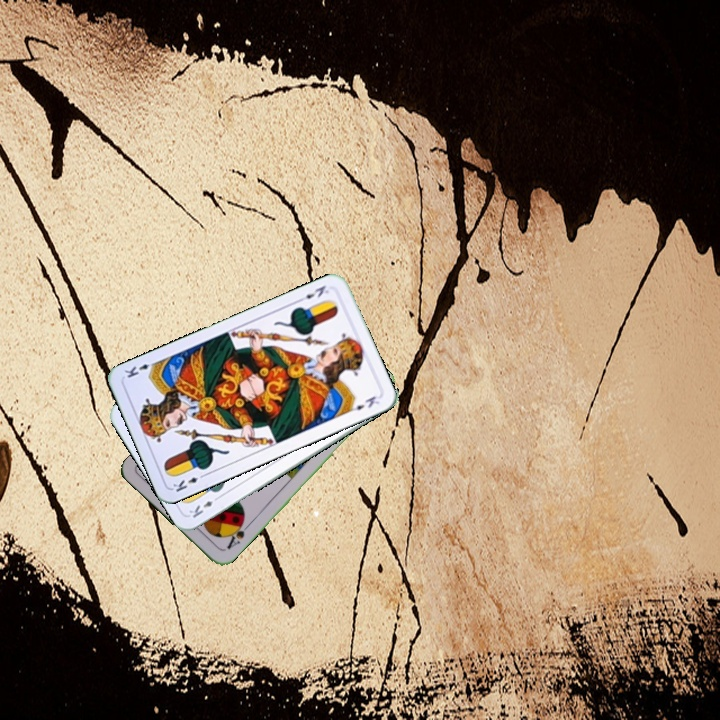EK: (185, 492, 223, 521), (169, 469, 209, 495), (294, 281, 332, 305)
SA: (222, 516, 253, 552)
